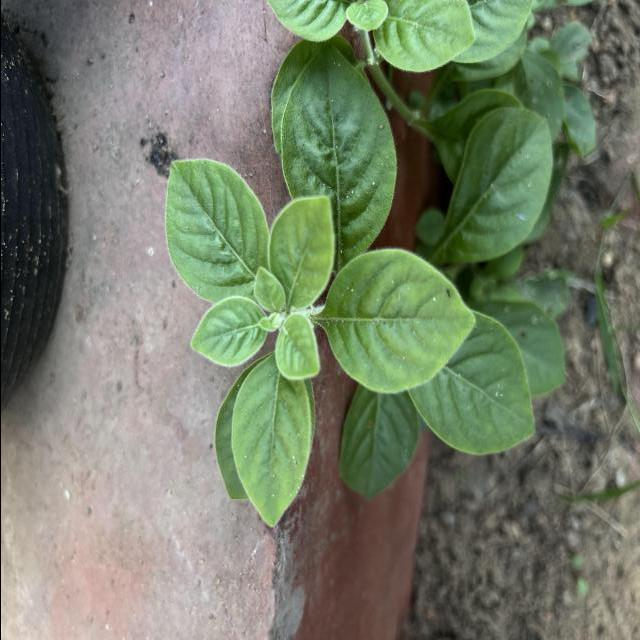Aerva lanata: (276, 38, 398, 256), (322, 245, 479, 398), (160, 153, 272, 306), (228, 350, 312, 530), (186, 291, 271, 370)
